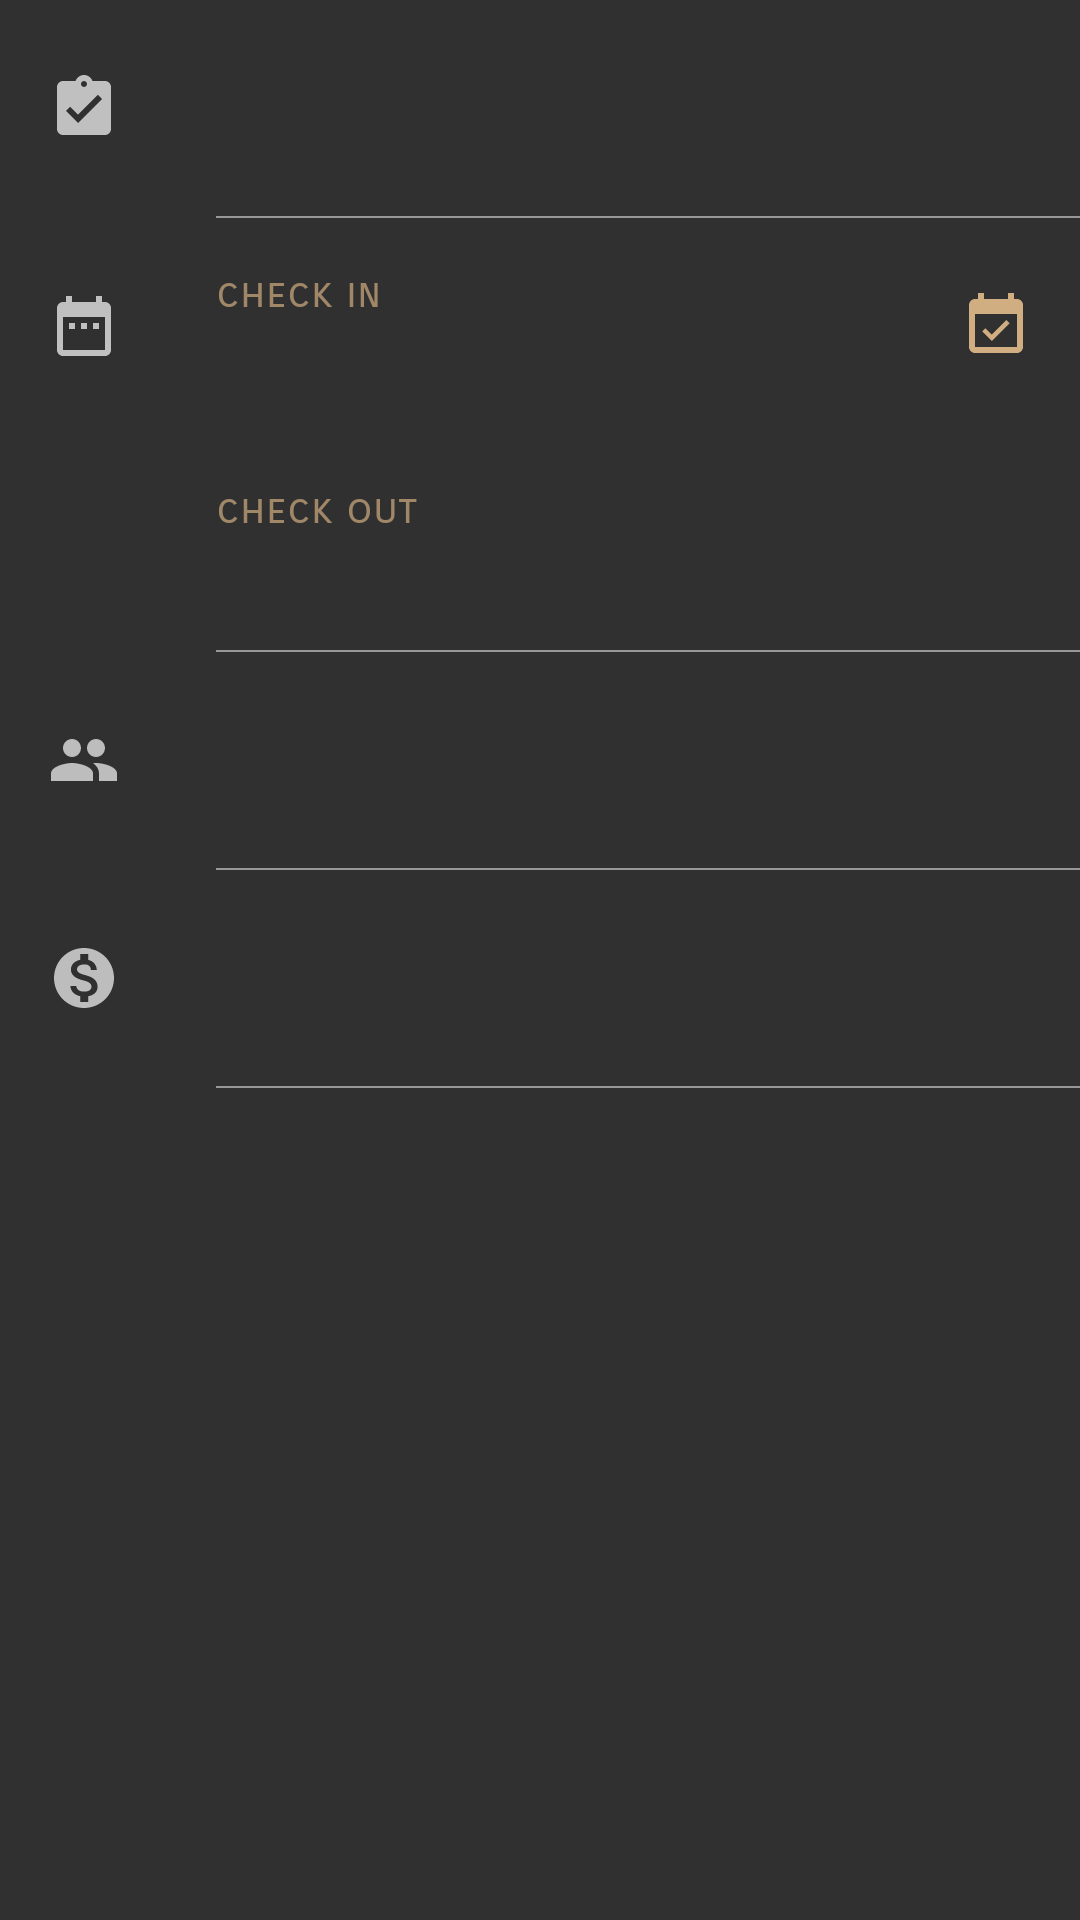

Screen size 1080px x 1920px. Icon name, then its box in pixels as (x1=x1, y1=y1, x2=x2, y2=y2):
assignment turned in: (x1=57, y1=75, x2=111, y2=135)
date range: (x1=57, y1=296, x2=111, y2=356)
event available: (x1=969, y1=293, x2=1023, y2=353)
monetization on: (x1=54, y1=948, x2=114, y2=1008)
